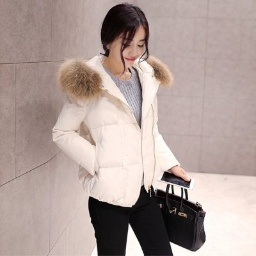face: (98, 2, 151, 68)
